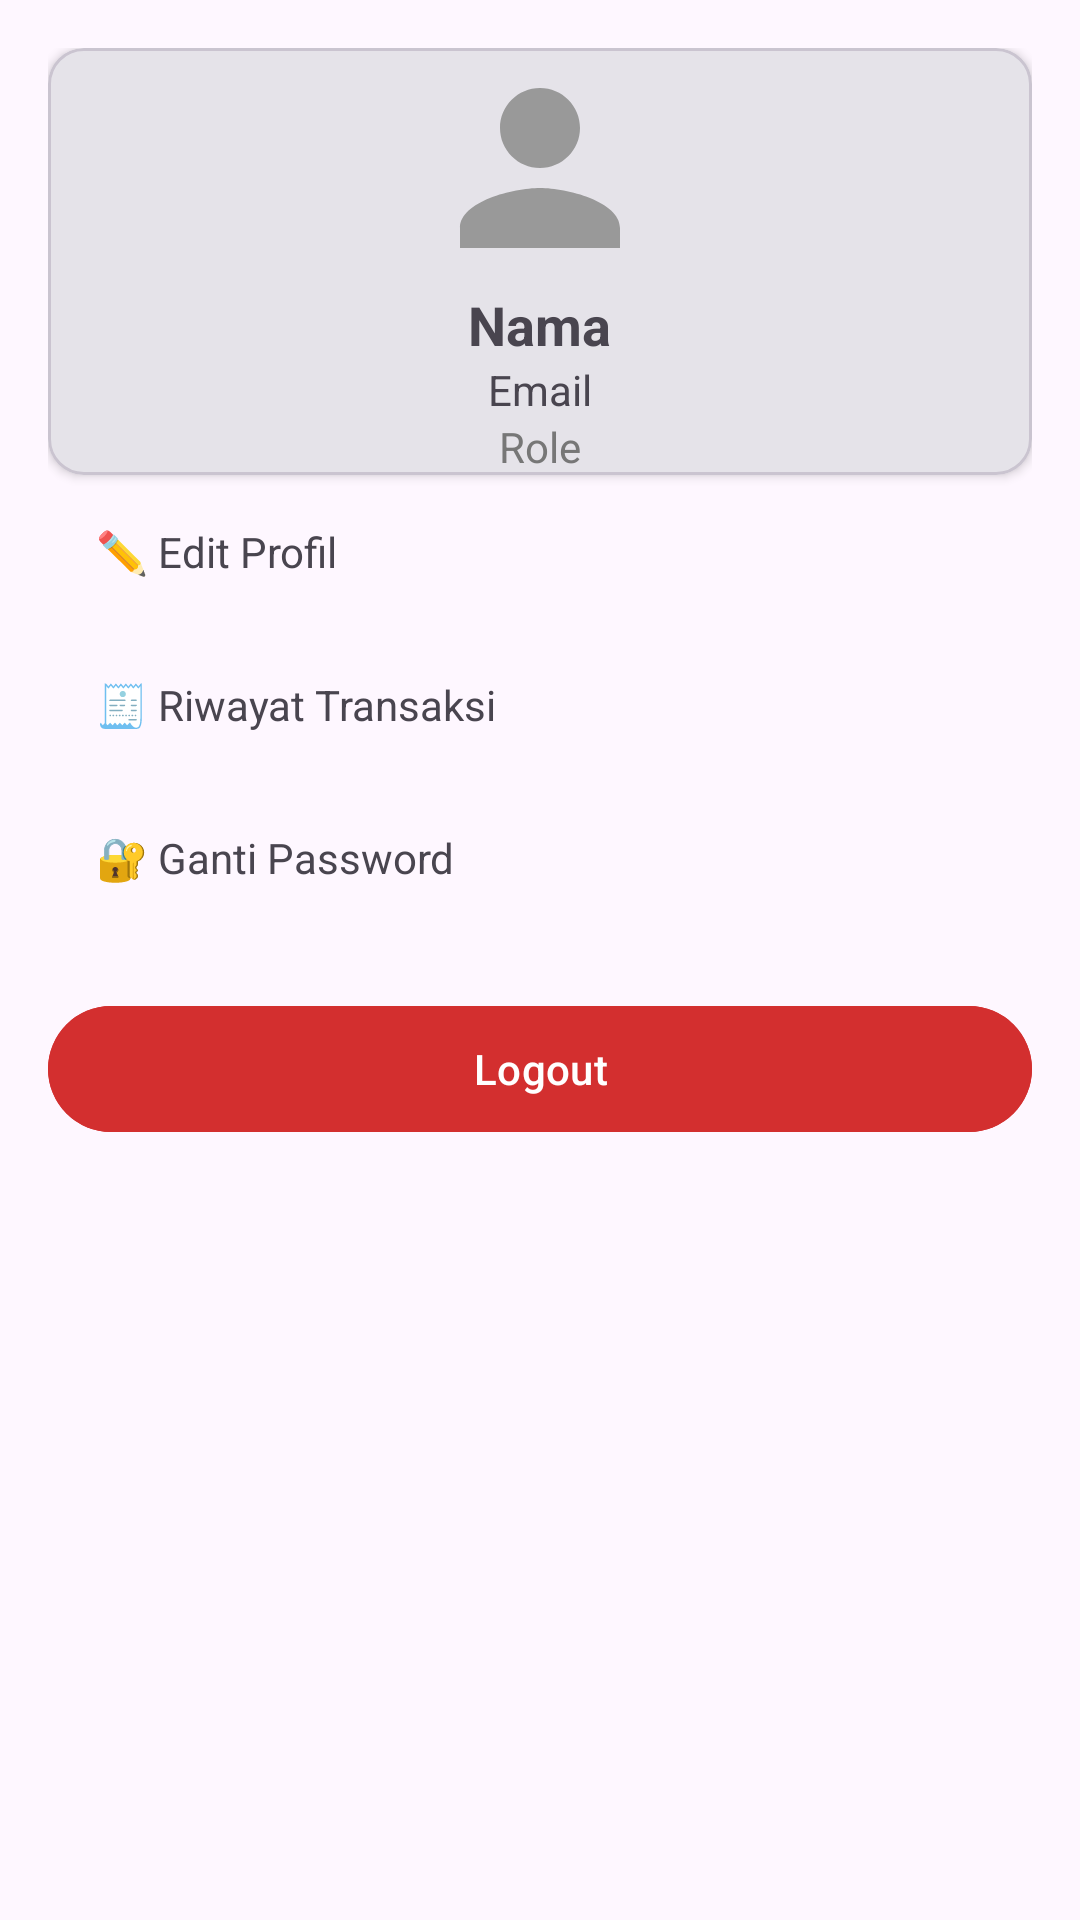

Screen size 1080 x 1920. Icon name, then its center in pixels as (x=x, y=y):
account circle: (x=540, y=168)
